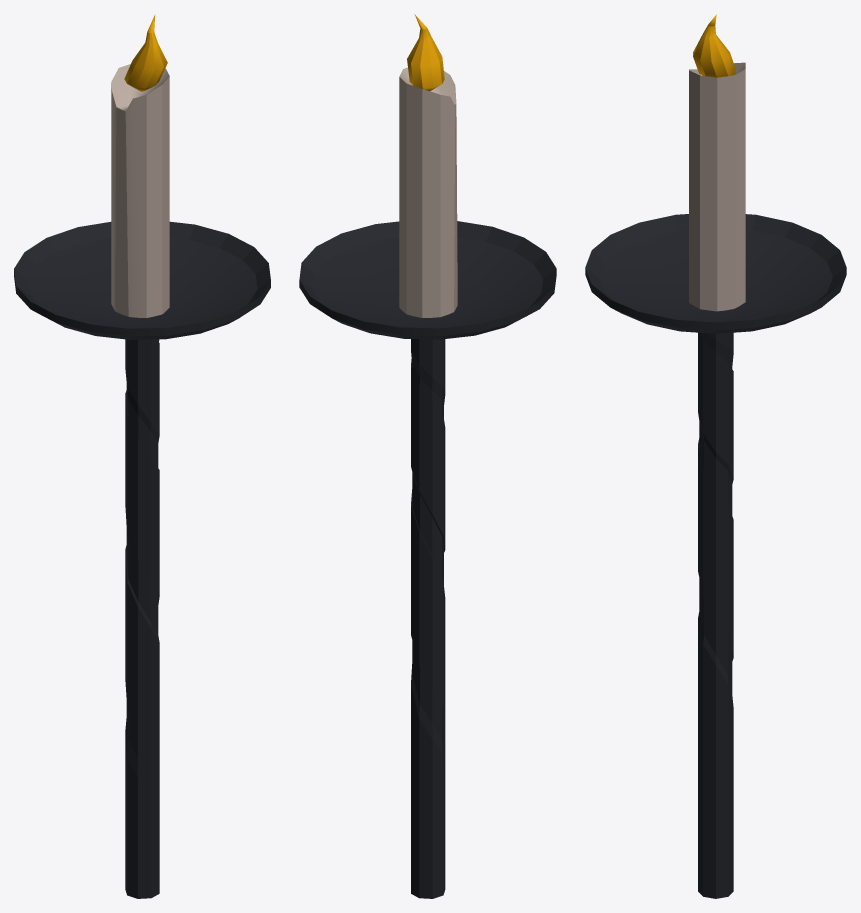
Rendered from Candle1.fbx.
3 views of the same model, side by side, from view 1: azimuth 30°, elevation 25°; view 2: azimuth 150°, elevation 25°; view 3: azimuth 270°, elevation 25° (orthographic).
Visible parts, largest first — view 1: pasted__pCylinder19, pasted__pCylinder20; view 2: pasted__pCylinder19, pasted__pCylinder20; view 3: pasted__pCylinder19, pasted__pCylinder20.
Boxes of the visible parts, x1,y1,x2,y2 form: pasted__pCylinder19: [14, 64, 270, 898]; pasted__pCylinder20: [124, 14, 167, 91]; pasted__pCylinder19: [299, 67, 556, 898]; pasted__pCylinder20: [407, 14, 444, 90]; pasted__pCylinder19: [585, 62, 846, 898]; pasted__pCylinder20: [693, 14, 735, 77].
Size of the model in its own units: 3.77 by 14.06 by 3.77.
